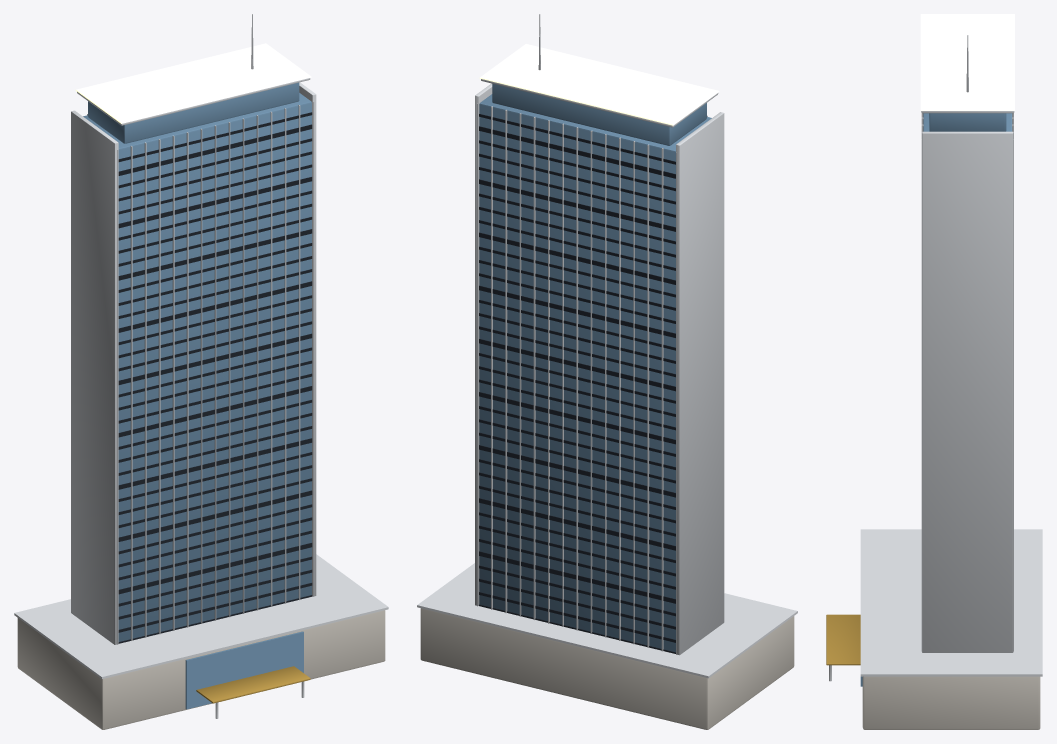
File: hotel-tokyo.glb
3 views of the same model, side by side, from view 1: azimuth 30°, elevation 25°; view 2: azimuth 150°, elevation 25°; view 3: azimuth 270°, elevation 25° (orthographic). The views are drawn at different scales.
Visible parts, largest first — view 1: LOD0_Facade, LOD0_Fin, LOD0_Spandrel, LOD0_Stone, LOD1_Facade, LOD0_CrownGlow, LOD1_Spandrel, LOD0_Accent; view 2: LOD0_Facade, LOD0_Fin, LOD0_Spandrel, LOD0_Stone, LOD0_CrownGlow, LOD1_Spandrel; view 3: LOD0_Fin, LOD0_Stone, LOD0_CrownGlow, LOD0_Accent, LOD0_Facade.
Boxes of the visible parts, bbox=[...] form: LOD0_Facade: bbox=[83, 82, 311, 709]; LOD0_Fin: bbox=[14, 14, 388, 718]; LOD0_Spandrel: bbox=[118, 112, 312, 643]; LOD0_Stone: bbox=[17, 610, 385, 729]; LOD1_Facade: bbox=[88, 84, 311, 556]; LOD0_CrownGlow: bbox=[75, 43, 311, 123]; LOD1_Spandrel: bbox=[118, 124, 312, 642]; LOD0_Accent: bbox=[196, 666, 310, 703]; LOD0_Facade: bbox=[479, 83, 711, 652]; LOD0_Fin: bbox=[417, 14, 797, 678]; LOD0_Spandrel: bbox=[479, 114, 675, 649]; LOD0_Stone: bbox=[420, 608, 794, 729]; LOD0_CrownGlow: bbox=[479, 44, 719, 125]; LOD1_Spandrel: bbox=[479, 126, 675, 653]; LOD0_Fin: bbox=[829, 35, 1042, 681]; LOD0_Stone: bbox=[862, 676, 1040, 729]; LOD0_CrownGlow: bbox=[920, 14, 1014, 110]; LOD0_Accent: bbox=[826, 614, 860, 665]; LOD0_Facade: bbox=[860, 113, 1012, 686].
Size of the model in its own units: 85 by 179 by 53.5.
